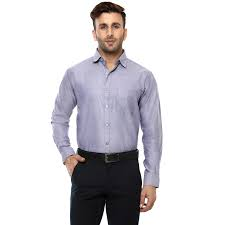F_belt: (69, 145, 143, 166)
F_dress pants: (67, 147, 145, 225)
F_shirt: (42, 49, 178, 189)
